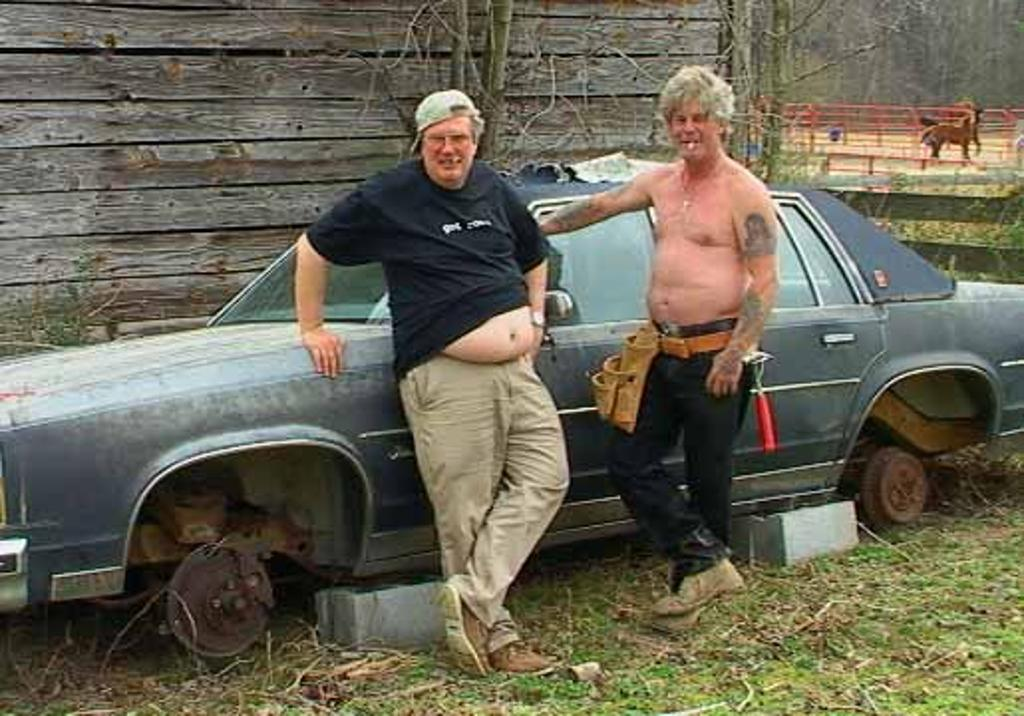face: (666, 86, 726, 156), (424, 122, 476, 182)
